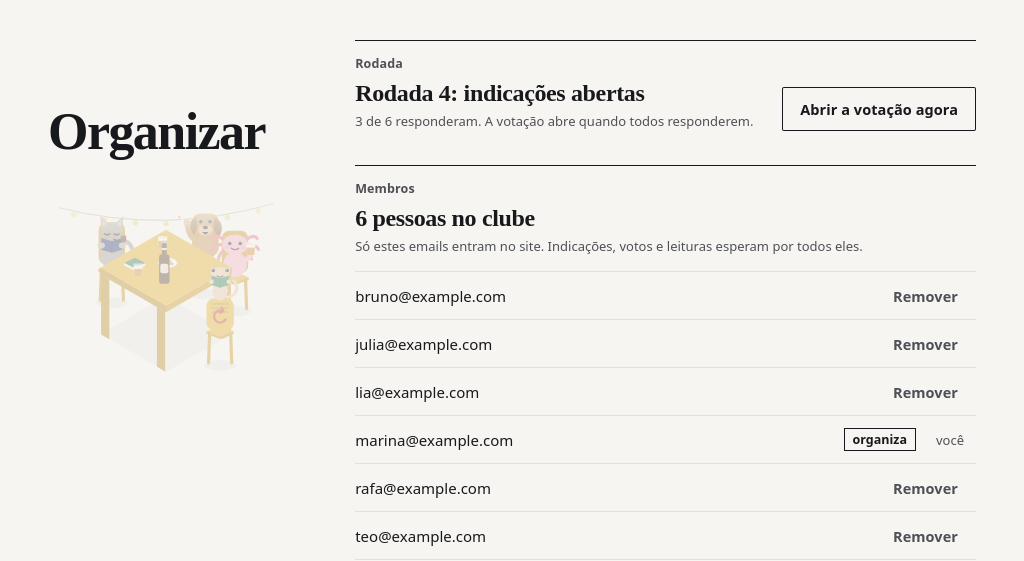
Test: AdminPage, members › removes someone after confirming
This screenshot has width=1024, height=561.
Click the button with aria-label "Remover lia@example.com" at [926, 392], box x1=875 y1=370 x2=976 y2=414
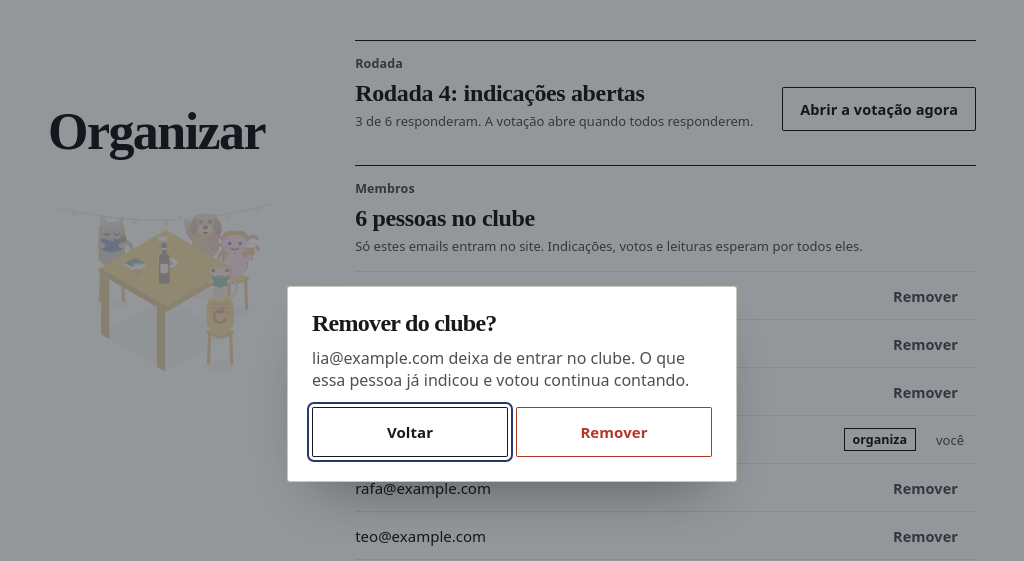
Click the button "Remover" at [614, 432], box x1=516 y1=407 x2=712 y2=457
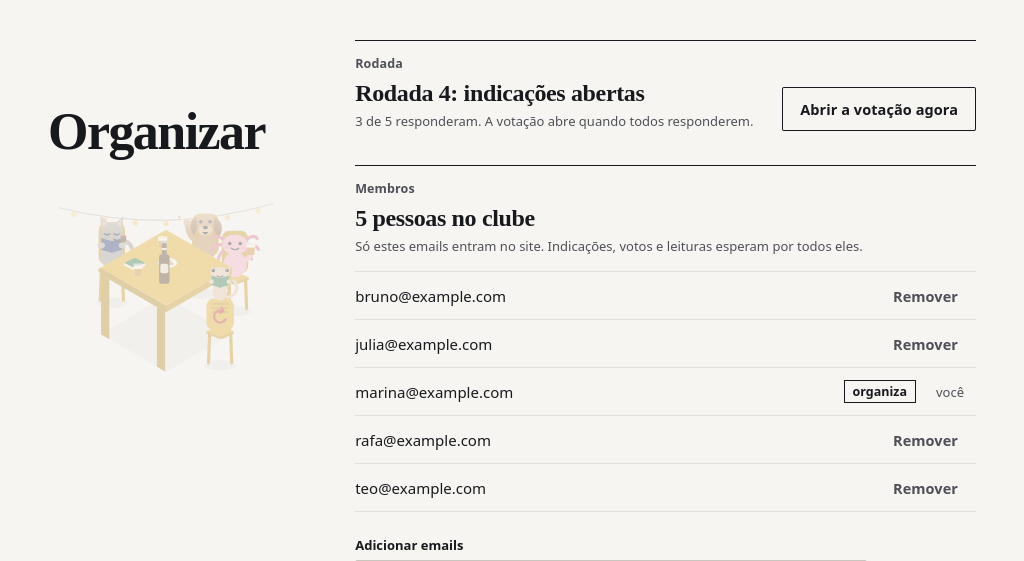
Check: the text "5 pessoas no clube" is shown, box x1=355 y1=205 x2=535 y2=231
